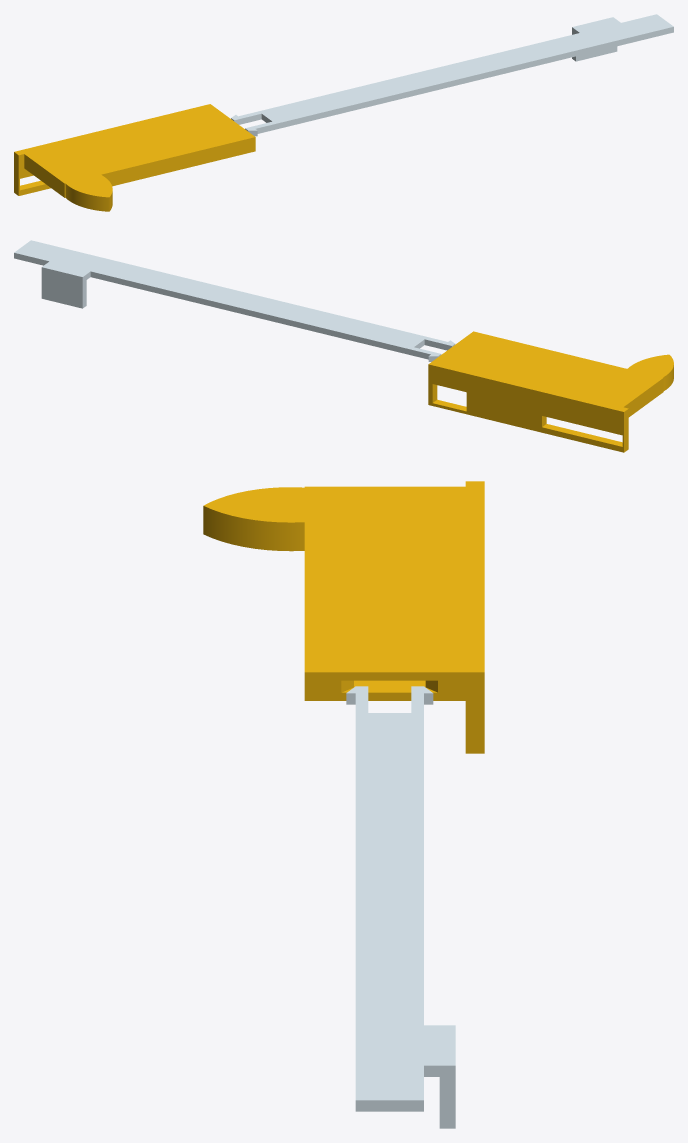
The model's file is SuportePaquimetro.glb.
3 renders of one model, top to bottom at view 1: azimuth 30°, elevation 25°; view 2: azimuth 150°, elevation 25°; view 3: azimuth 270°, elevation 25°, orthographic. The views are drawn at different scales.
Visible parts, largest first — view 1: Part 7, FIXADOR-R; view 2: Part 7, FIXADOR-R; view 3: Part 7, FIXADOR-R.
Boxes of the visible parts, x1,y1,x2,y2 form: Part 7: [14, 104, 255, 211]; FIXADOR-R: [231, 14, 673, 136]; Part 7: [428, 331, 673, 452]; FIXADOR-R: [14, 240, 455, 361]; Part 7: [203, 481, 484, 753]; FIXADOR-R: [346, 686, 455, 1128].
Size of the model in its own units: 0.2285 by 0.0142 by 0.0445.
